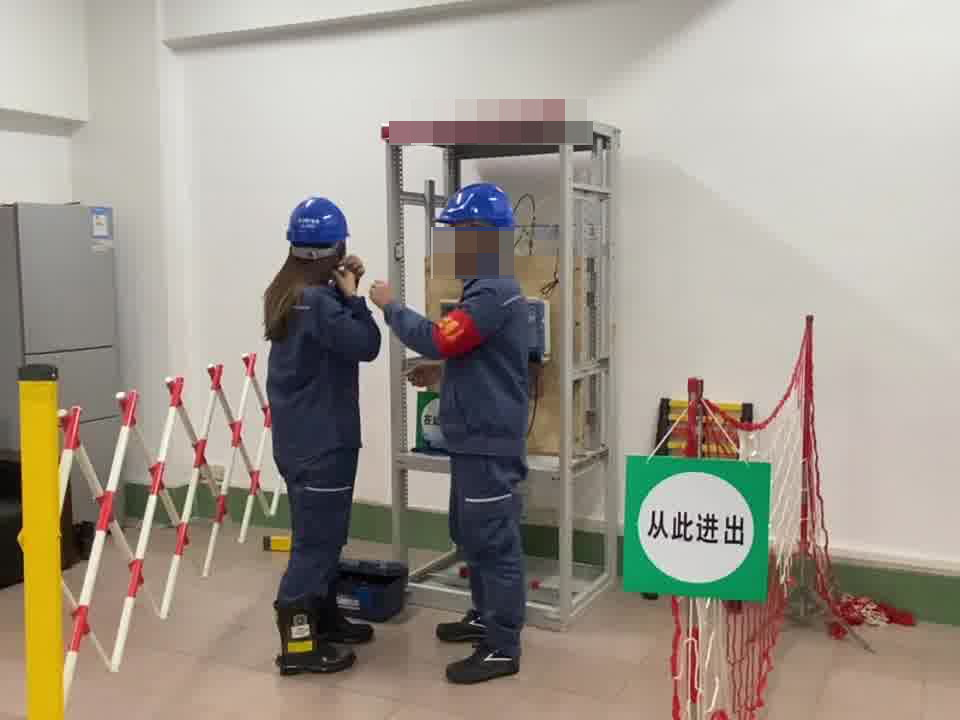badge: (434, 307, 484, 360)
downsuit: (446, 456, 530, 652), (274, 454, 361, 610)
hair: (262, 196, 353, 342)
halt: (435, 182, 521, 267)
hand: (337, 253, 365, 297), (366, 278, 396, 306)
inear: (461, 222, 494, 263)
intosign: (617, 447, 780, 612)
person: (368, 178, 548, 688), (250, 193, 387, 677)
shoe: (274, 587, 375, 677)
upsuit: (384, 258, 544, 447), (265, 280, 382, 465)
worksign: (413, 390, 455, 456)
